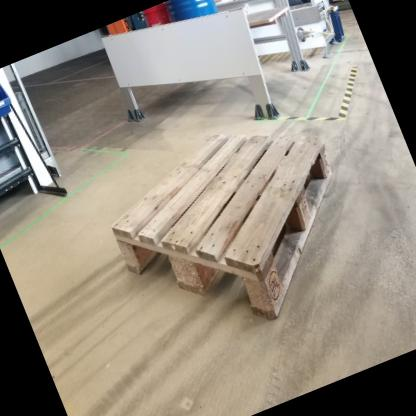BoxFace: (102, 126, 336, 328)
